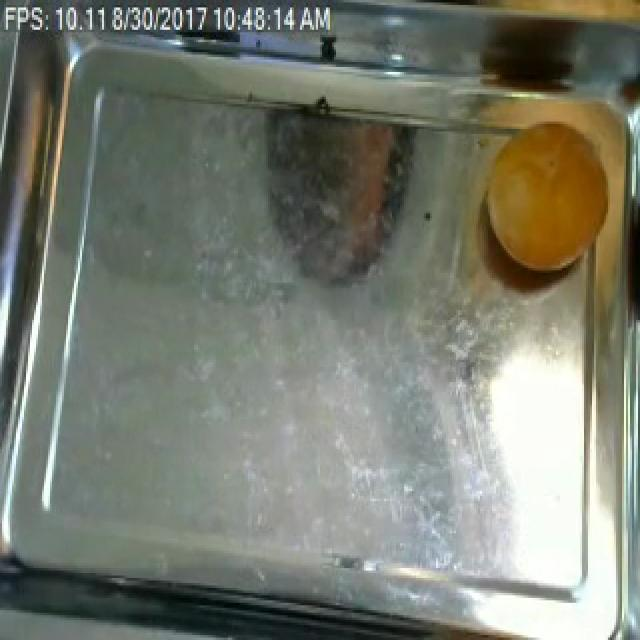Fruit: (478, 112, 616, 275), (452, 0, 640, 37)
